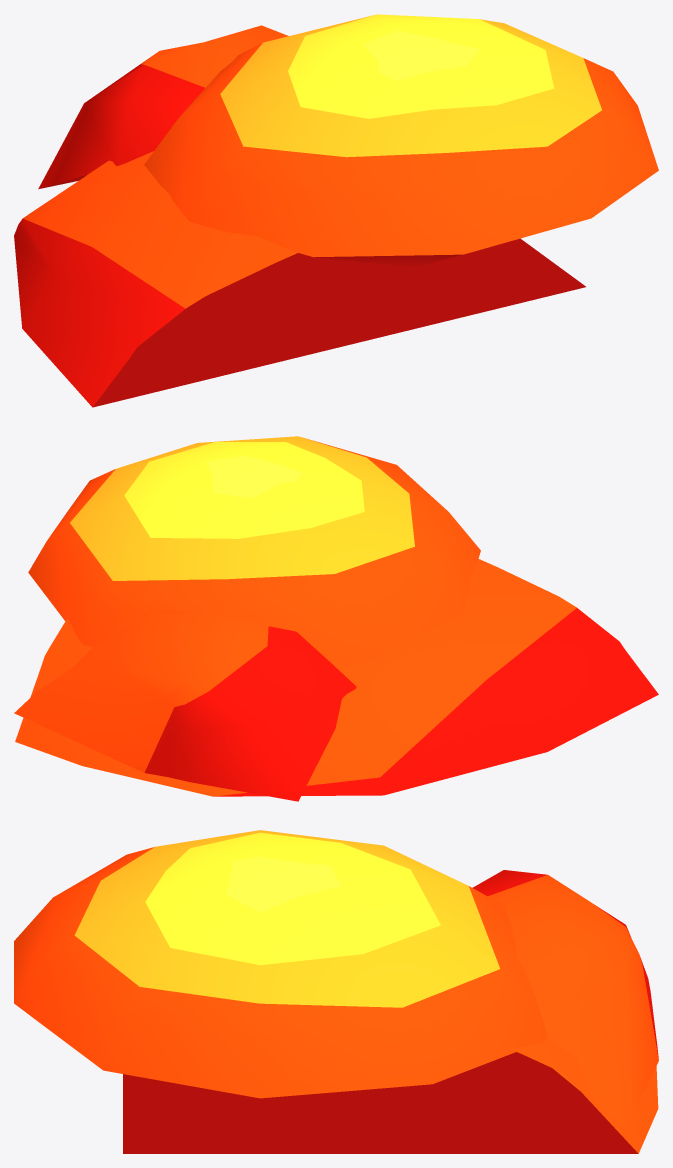
File: shot_zflame_179.glb
3 views of the same model, one above another, from view 1: azimuth 30°, elevation 25°; view 2: azimuth 150°, elevation 25°; view 3: azimuth 270°, elevation 25° (orthographic). The views are drawn at different scales.
Parts seen in each view (by area): view 1: zflame_7_billow0_b179, zflame_7_bed_b179, zflame_7_billow3_b179; view 2: zflame_7_billow0_b179, zflame_7_bed_b179, zflame_7_billow3_b179; view 3: zflame_7_billow0_b179, zflame_7_bed_b179, zflame_7_billow3_b179.
Boxes of the visible parts, bbox=[...] form: zflame_7_billow0_b179: bbox=[144, 14, 658, 267]; zflame_7_bed_b179: bbox=[14, 151, 585, 407]; zflame_7_billow3_b179: bbox=[38, 25, 288, 189]; zflame_7_billow0_b179: bbox=[28, 436, 480, 665]; zflame_7_bed_b179: bbox=[15, 559, 658, 796]; zflame_7_billow3_b179: bbox=[14, 609, 356, 801]; zflame_7_billow0_b179: bbox=[14, 830, 546, 1098]; zflame_7_bed_b179: bbox=[123, 1037, 658, 1153]; zflame_7_billow3_b179: bbox=[472, 870, 658, 1128].
Size of the model in its own units: 8.32 by 2.7 by 7.05.
